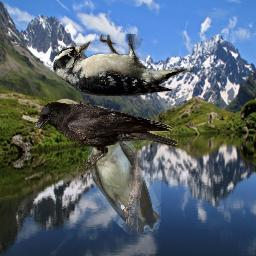Crow: (32, 101, 178, 172)
Swallow: (88, 125, 161, 235)
Woodpecker: (53, 34, 194, 96)
